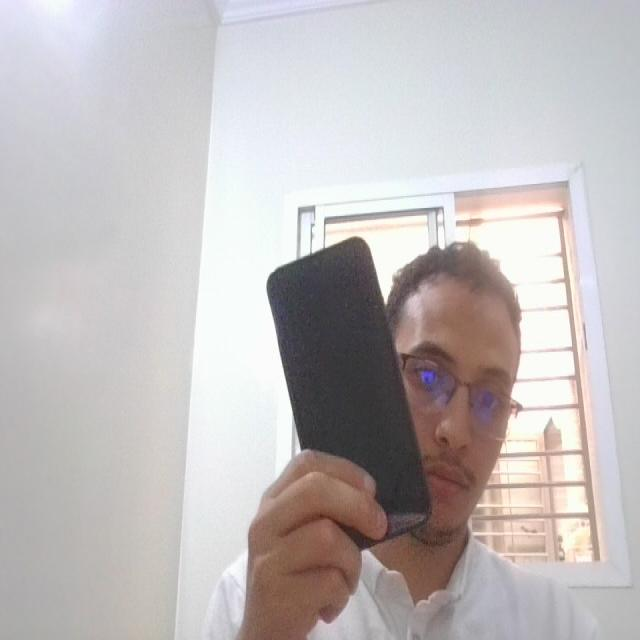phone: (258, 234, 438, 556)
